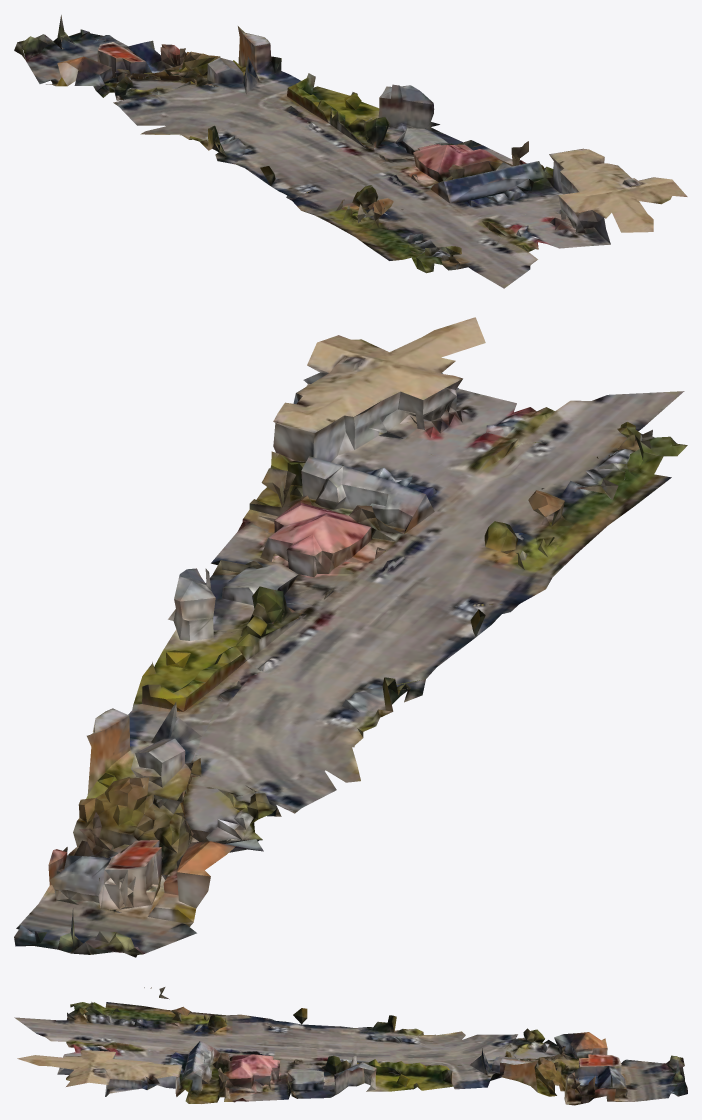
Rendered from Tile_015_011_L17.gltf.
3 views of the same model, one above another, from view 1: azimuth 30°, elevation 25°; view 2: azimuth 150°, elevation 25°; view 3: azimuth 270°, elevation 25° (orthographic). The views are drawn at different scales.
Visible parts, largest first — view 1: Tile_+015_+011_L17; view 2: Tile_+015_+011_L17; view 3: Tile_+015_+011_L17.
Boxes of the visible parts, bbox=[...] form: Tile_+015_+011_L17: bbox=[14, 15, 687, 288]; Tile_+015_+011_L17: bbox=[14, 317, 687, 957]; Tile_+015_+011_L17: bbox=[14, 987, 687, 1105].
Size of the model in its own units: 80.09 by 30.45 by 222.
1 material, 1 textured.
